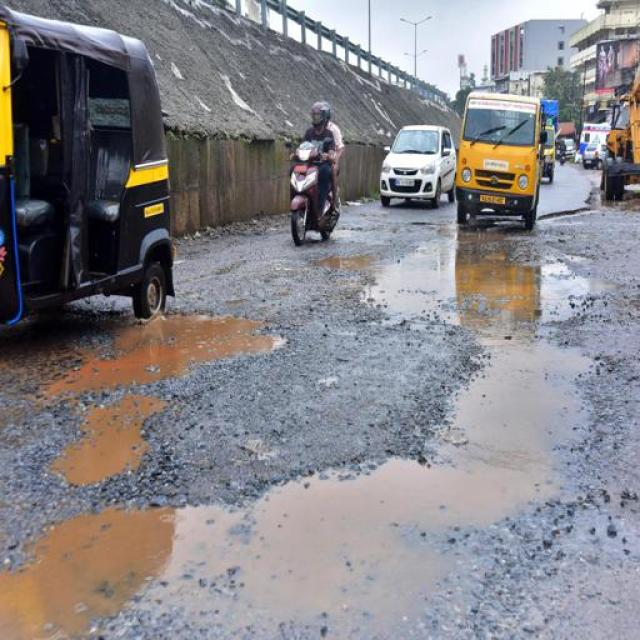puddle: (95, 500, 430, 600), (396, 235, 584, 340), (114, 322, 250, 371)
